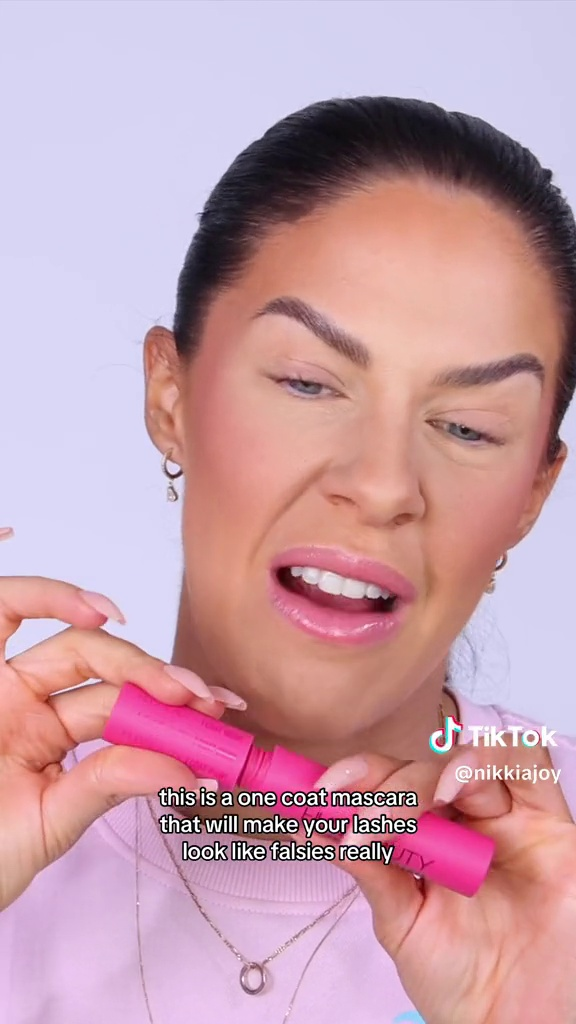train' :'yolo_data/train/images',: (94, 672, 500, 898)
